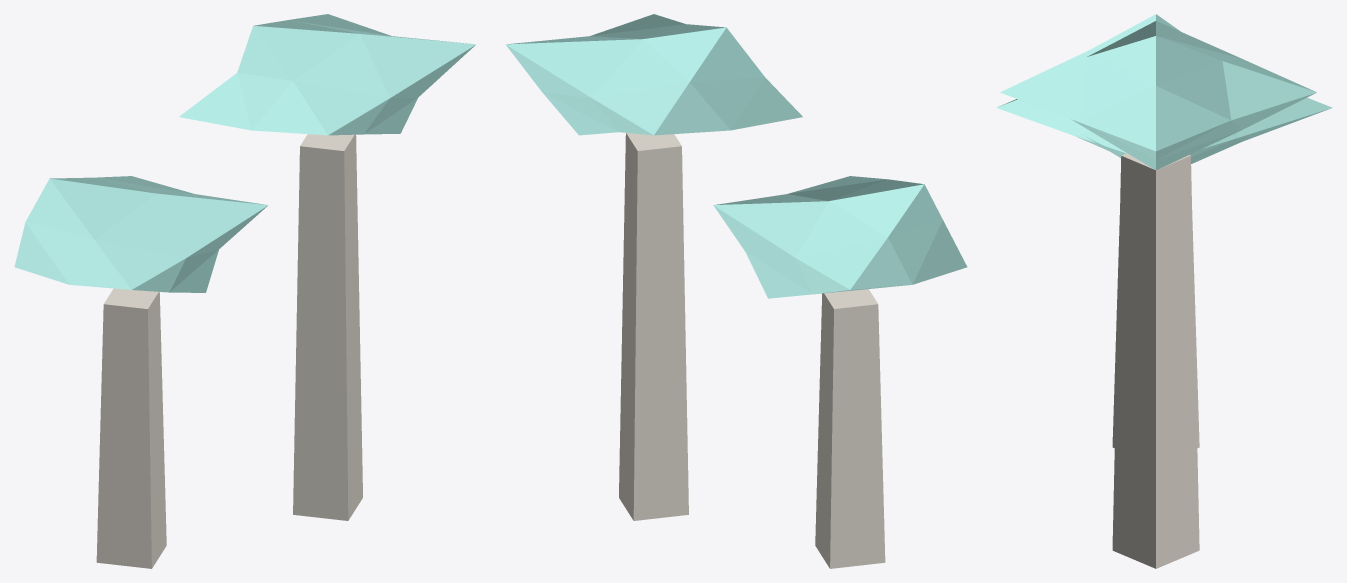
Rendered from glowcap_v06.glb.
3 renders of one model, left to right at view 1: azimuth 30°, elevation 25°; view 2: azimuth 150°, elevation 25°; view 3: azimuth 270°, elevation 25°, orthographic. The views are drawn at different scales.
Visible parts, largest first — view 1: lod0; view 2: lod0; view 3: lod0.
Boxes of the visible parts, x1,y1,x2,y2 form: lod0: (14, 14, 475, 568); lod0: (505, 14, 967, 568); lod0: (996, 14, 1332, 568).
Size of what is drawn, in the model's own units: 0.3295 by 0.3354 by 0.1932.
